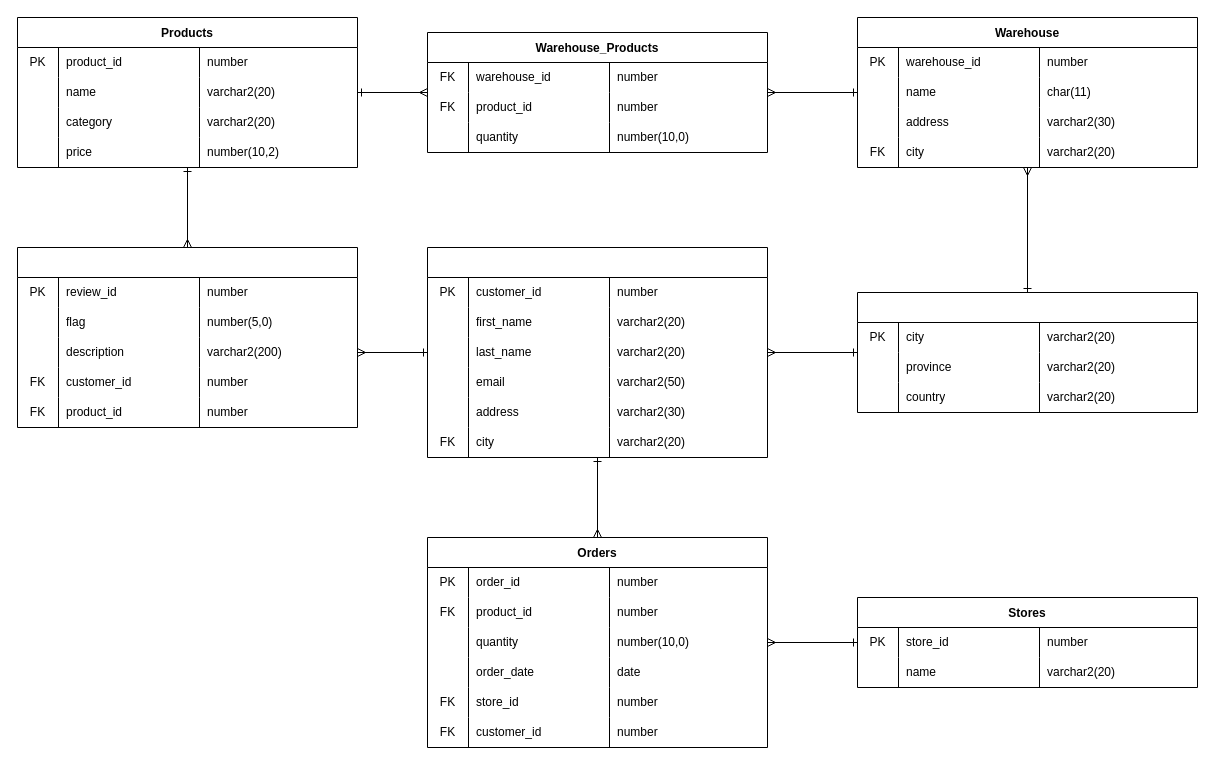
Some shapes in this 1215 by 765 pixel diagram are drawn without their labels. Here are the shapes that lost their labels. From the top down, the box of each, then its label:
(16, 246, 358, 428): Reviews
(426, 246, 768, 458): Customers
(856, 292, 1198, 412): Cities
